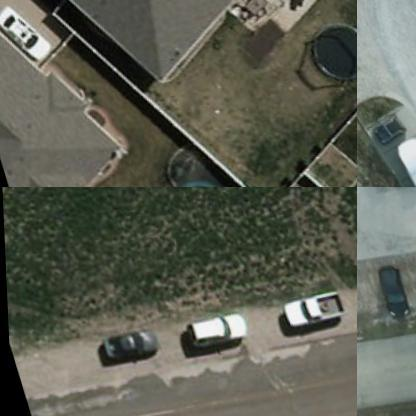car: (178, 298, 246, 350), (0, 0, 50, 70), (96, 317, 162, 365), (368, 254, 406, 312), (363, 106, 404, 146)
pickup: (278, 279, 347, 328)
